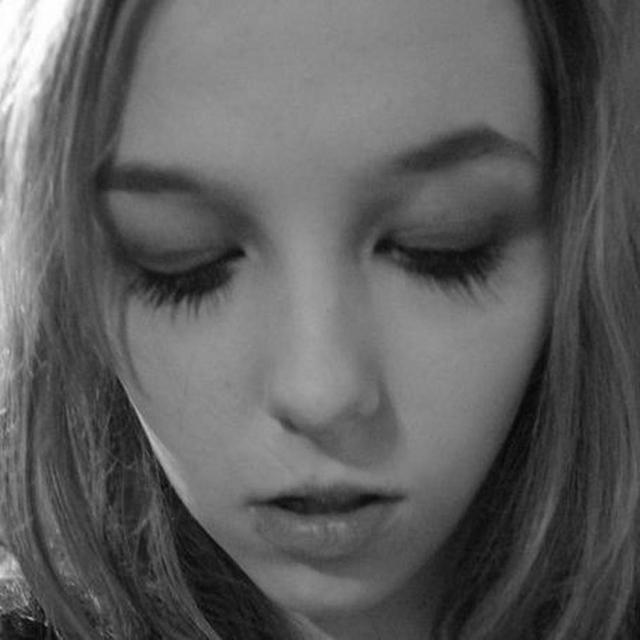real: (90, 10, 568, 618), (92, 161, 543, 322)
